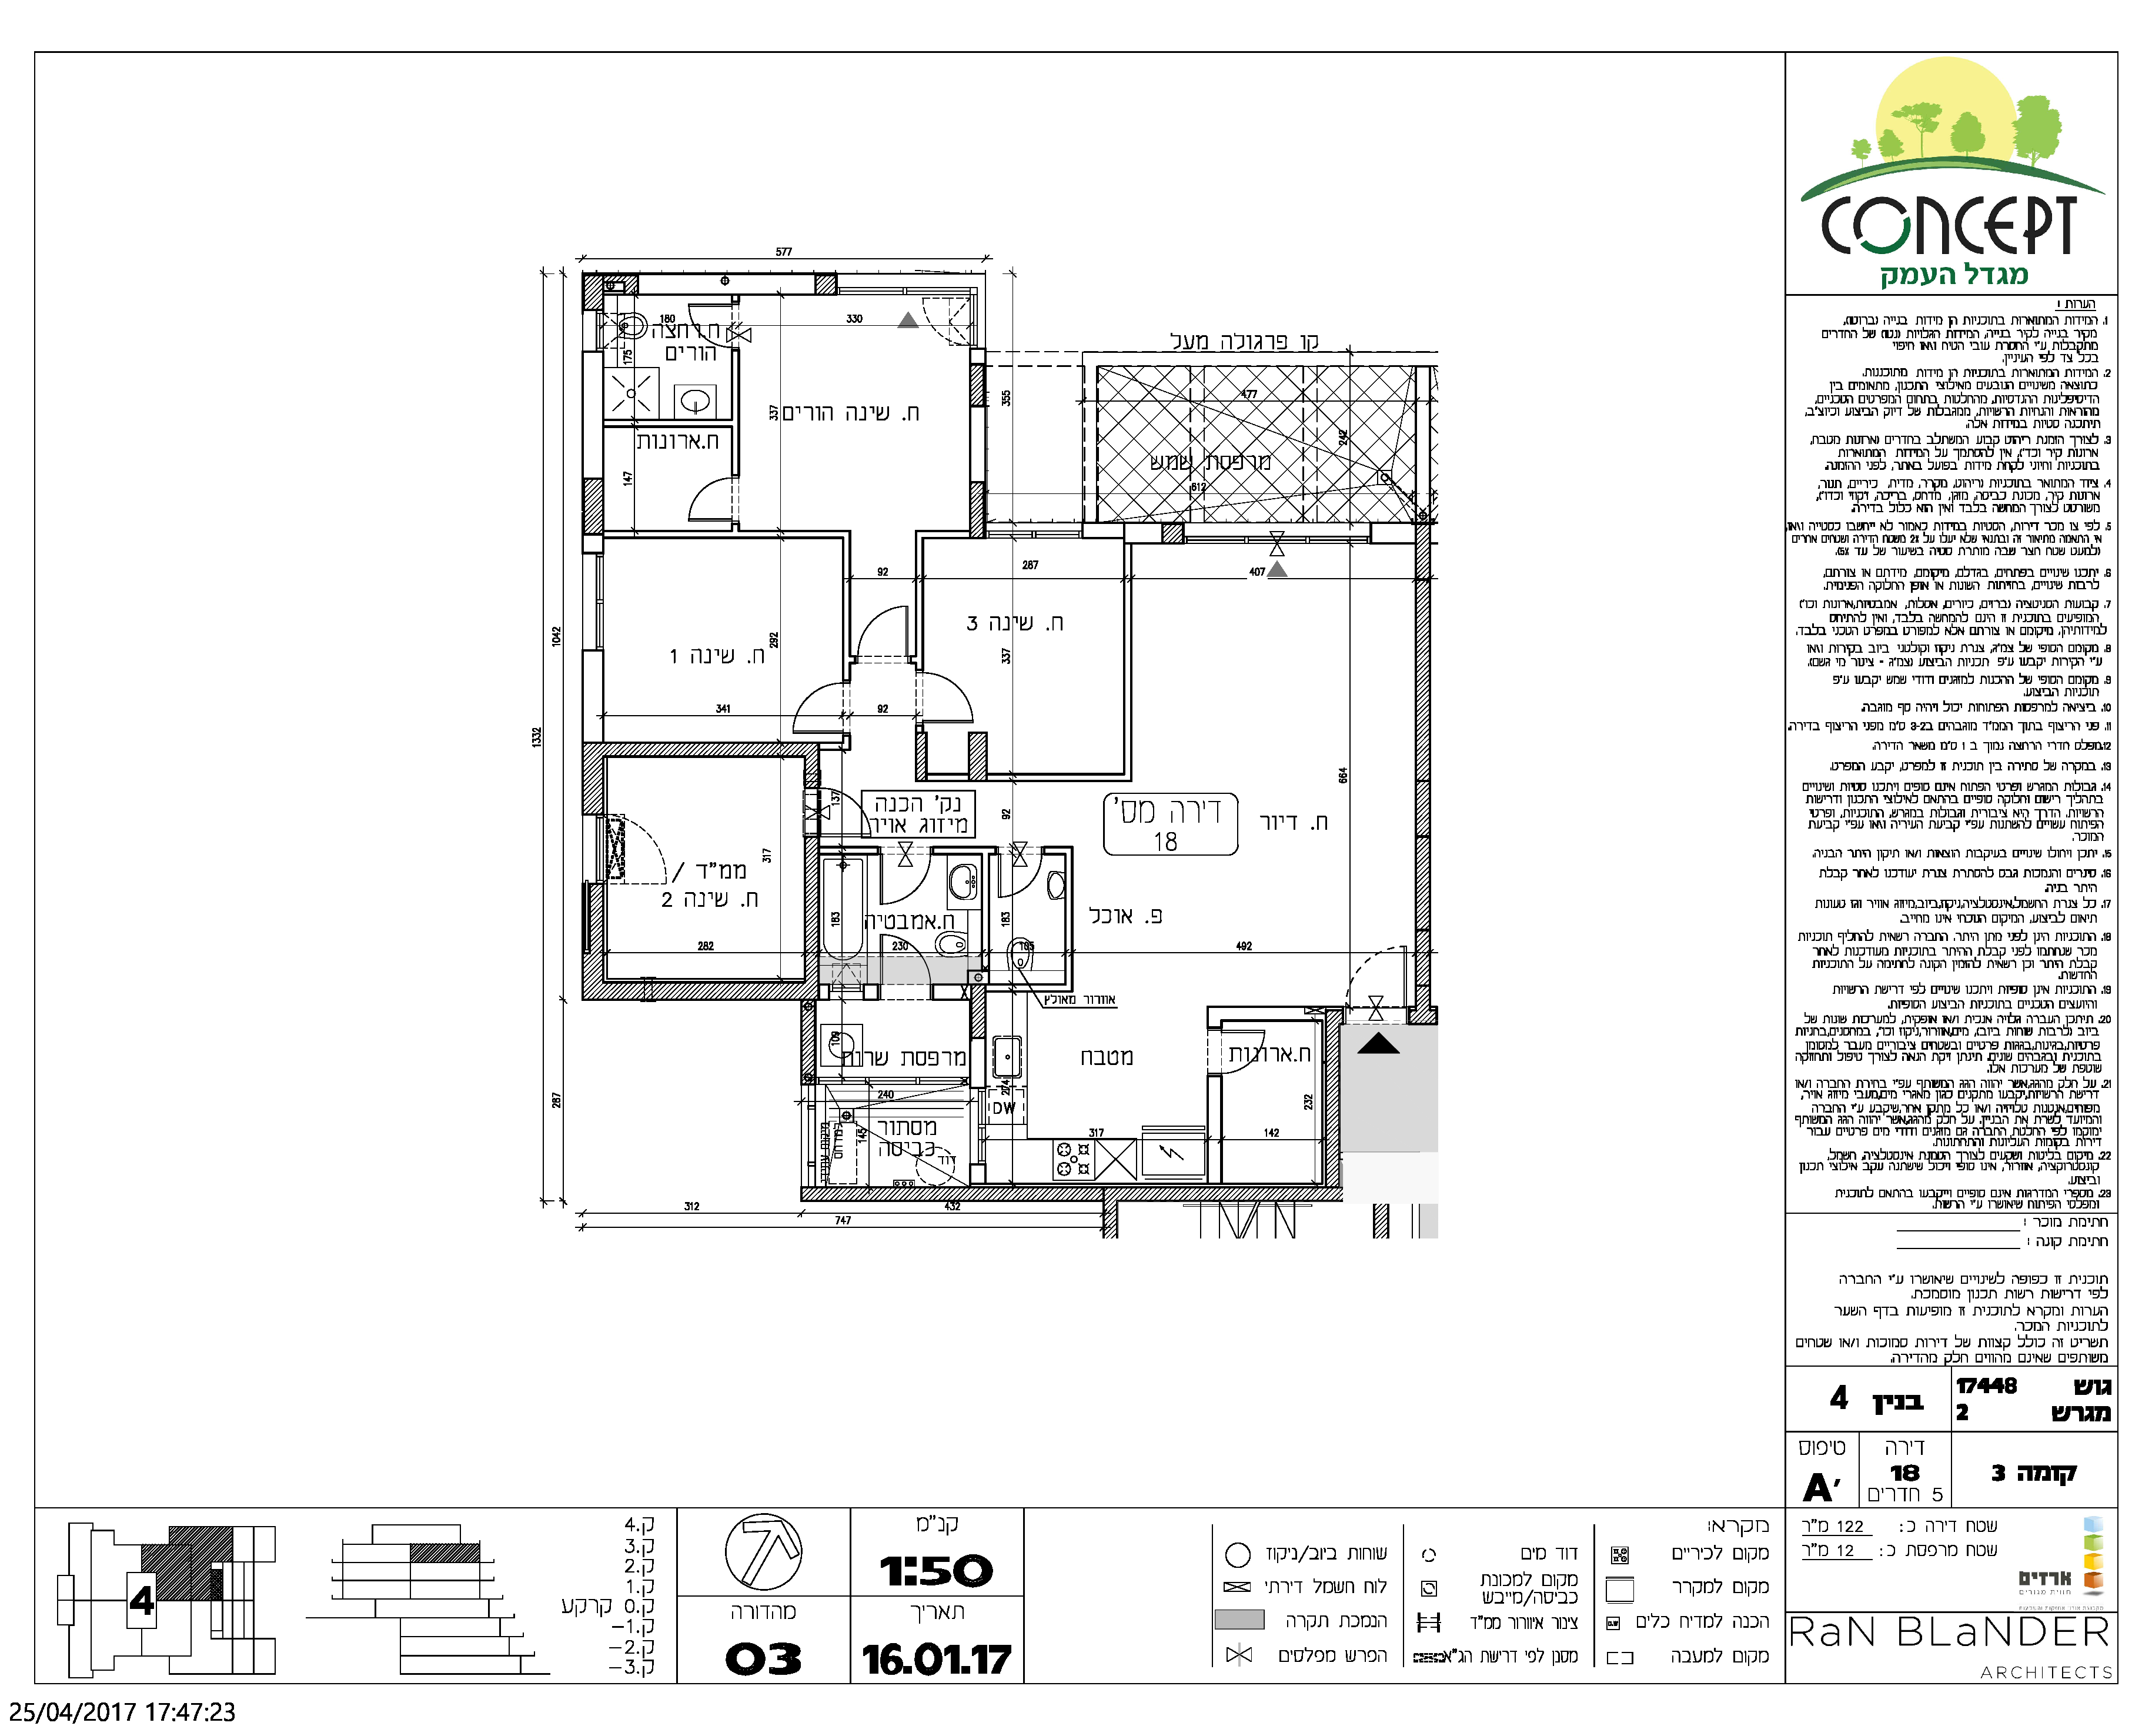door: (673, 464, 730, 528), (855, 588, 912, 648), (928, 668, 981, 732), (1350, 942, 1412, 994), (788, 678, 838, 739), (1227, 1024, 1270, 1088), (994, 857, 1043, 907)
md: (407, 152, 1568, 1343)
rd: (1723, 69, 2124, 1701), (2, 1477, 2133, 1709)
wall: (799, 1185, 1339, 1201), (1417, 528, 1429, 1013), (588, 978, 820, 1003), (586, 742, 815, 758)
window: (577, 549, 613, 657)
